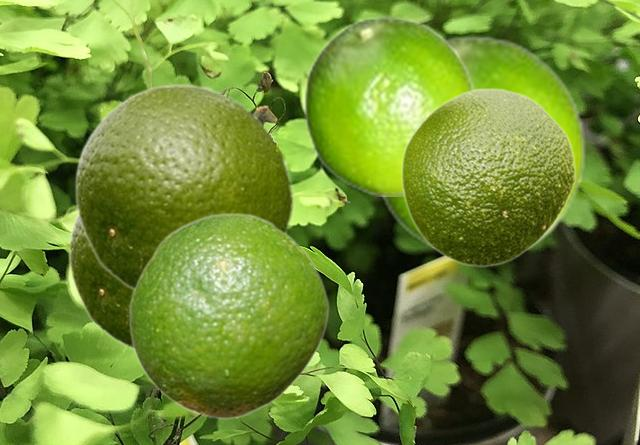calamansi: (376, 34, 586, 258), (74, 81, 294, 291), (128, 212, 328, 419), (400, 87, 575, 267), (303, 15, 475, 195), (68, 211, 132, 349)
